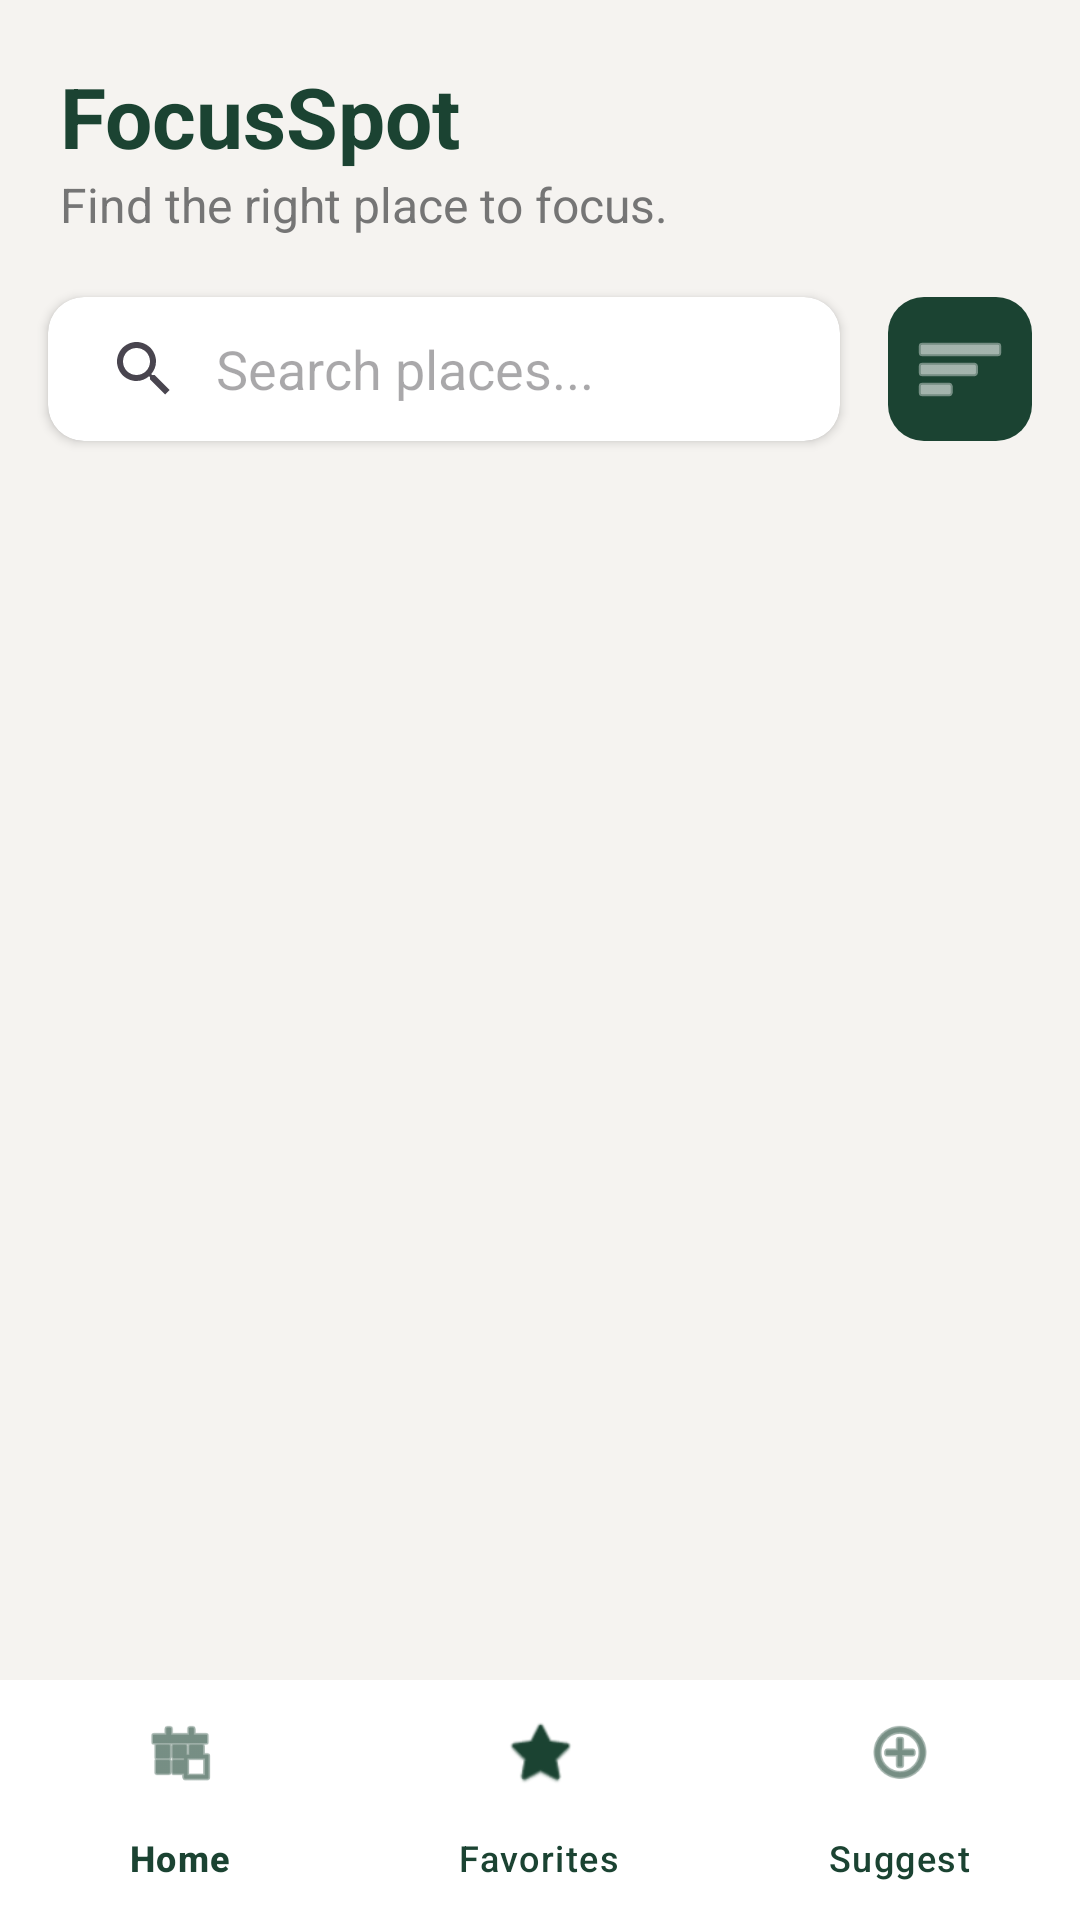

Locate icon controls on the screen. Image size 1080*1920, boxes as (left=x1, top=y1, right=x2, bottom=y2).
Filter: (left=888, top=297, right=1032, bottom=441)
